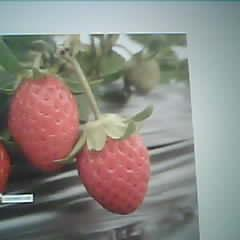straw-ripe: (79, 120, 151, 213), (10, 76, 79, 172)
straw-unripe: (128, 55, 160, 90)
